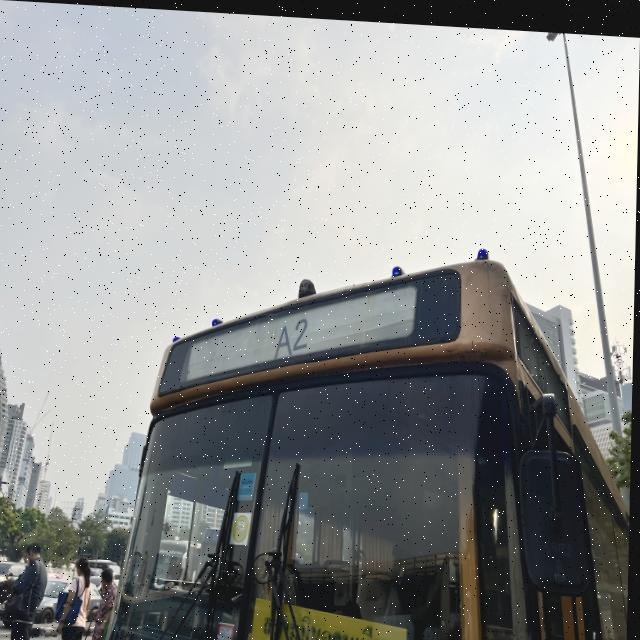BMTA-bus: (104, 210, 636, 640)
Bus-Line-Number: (273, 309, 314, 356)
Destination-Sign-Normal-Expressway: (255, 596, 408, 640)
